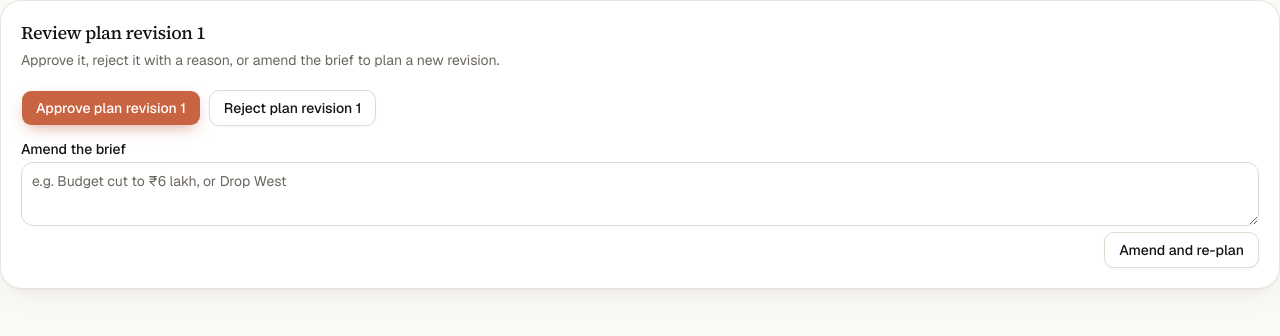
Test: ReviewPanel › goes back without approving on Cancel
Click the button "Approve plan revision 1". click: (111, 108)
box: [21, 90, 201, 126]
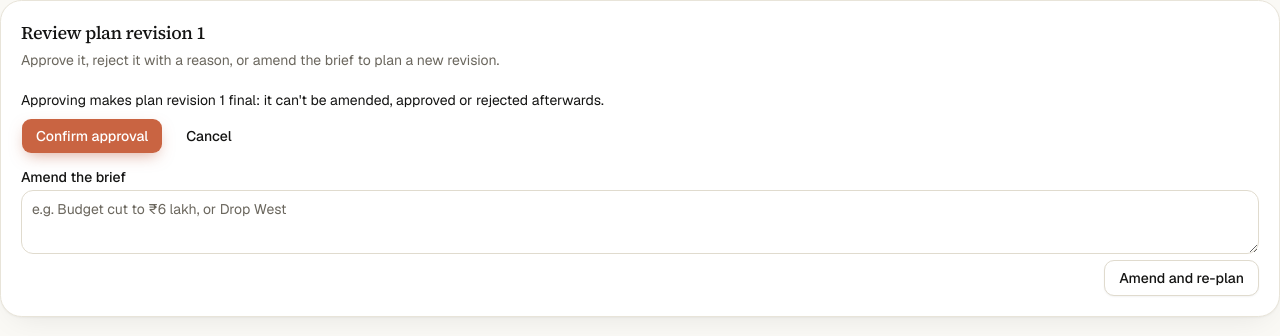
Click the button "Cancel". click: (209, 136)
box: [171, 118, 247, 154]
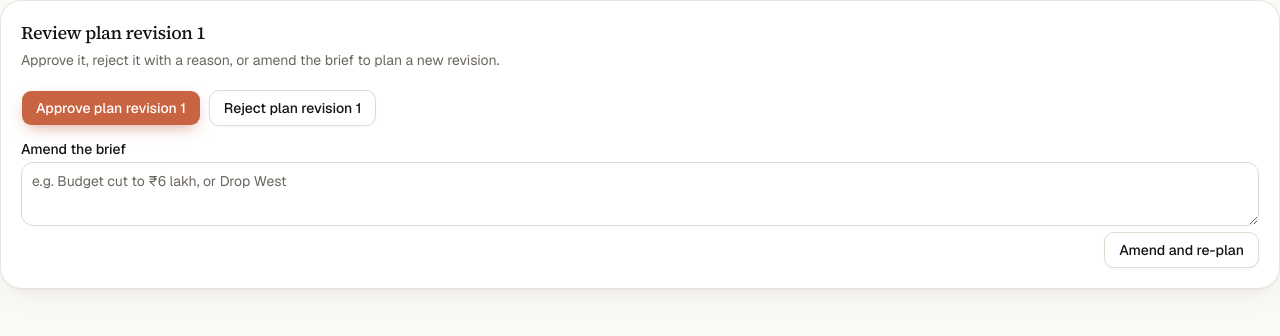
expect the button "Confirm approval" is gone: met
expect the button "Approve plan revision 1" is shown: met, box [21, 90, 201, 126]
